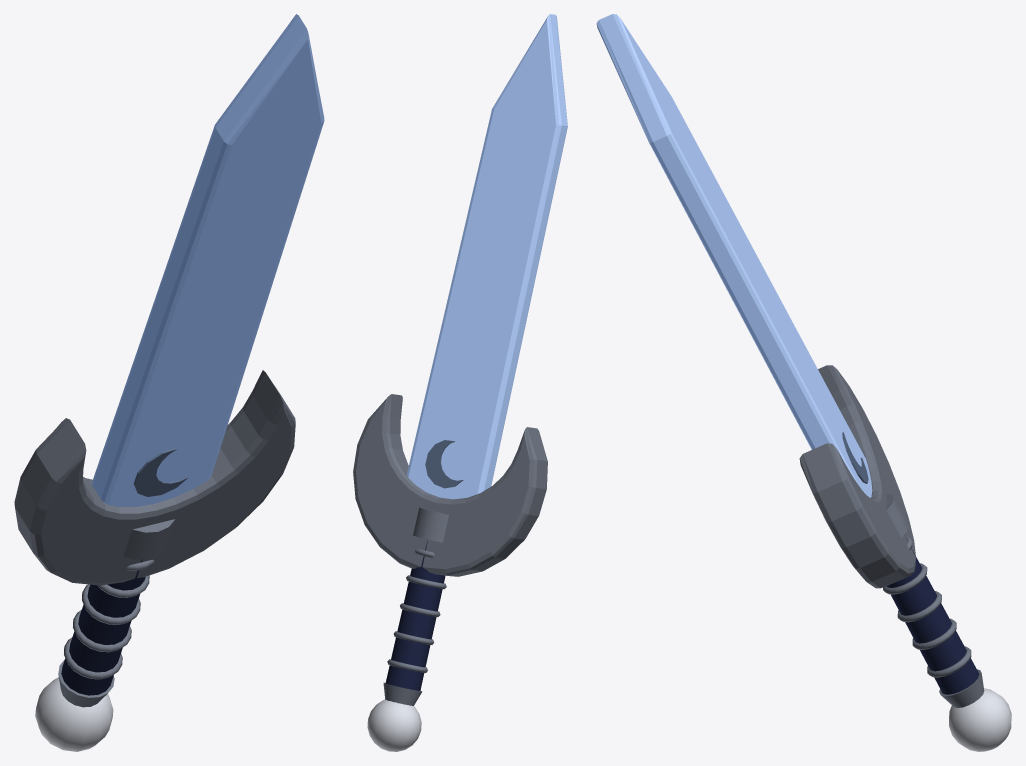
The model's file is hand_moon0.glb.
The picture shows the model from 3 angles, left to right: view 1: azimuth 30°, elevation 25°; view 2: azimuth 150°, elevation 25°; view 3: azimuth 270°, elevation 25°; orthographic projection. The views are drawn at different scales.
Size of the model in its own units: 1.4 by 4.66 by 2.39.
